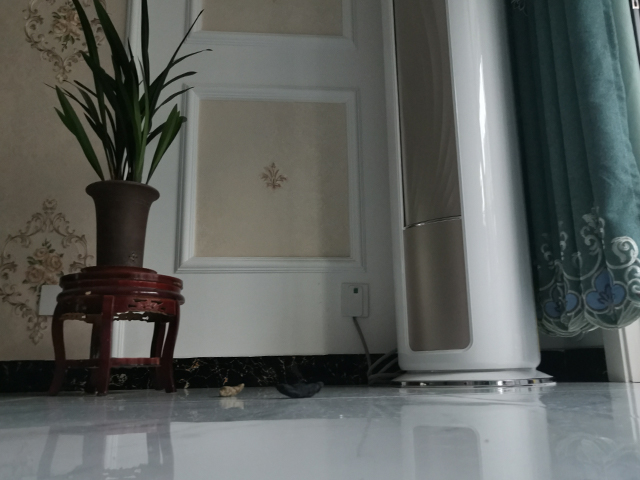curtain: (503, 1, 640, 341)
feces: (272, 380, 326, 398), (216, 382, 246, 399)
stool: (47, 265, 188, 399)
wire: (347, 316, 401, 388)
